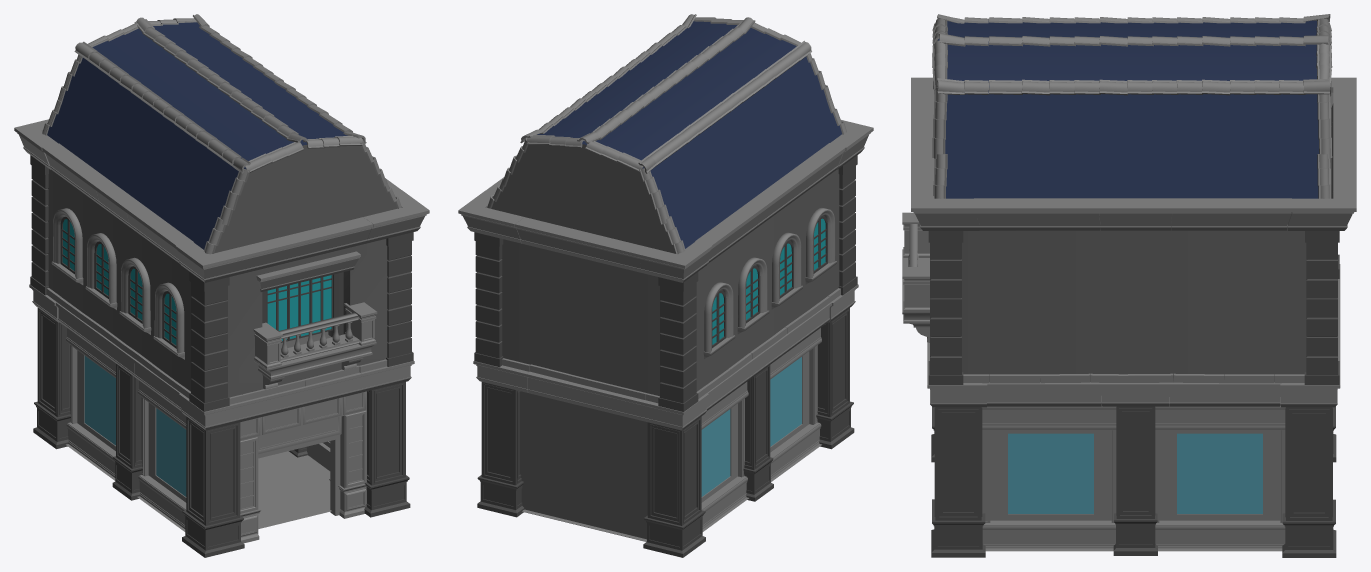
Rendered from SM_building_apartment_03.fbx.
3 renders of one model, left to right at view 1: azimuth 30°, elevation 25°; view 2: azimuth 150°, elevation 25°; view 3: azimuth 270°, elevation 25°, orthographic. The views are drawn at different scales.
Parts seen in each view (by area): view 1: Box358; view 2: Box358; view 3: Box358.
Boxes of the visible parts, box(x1,y1,x2,y2) form: Box358: box(14, 14, 429, 557); Box358: box(458, 14, 873, 557); Box358: box(902, 14, 1356, 557).
Size of the model in its own units: 305 by 505 by 447.
